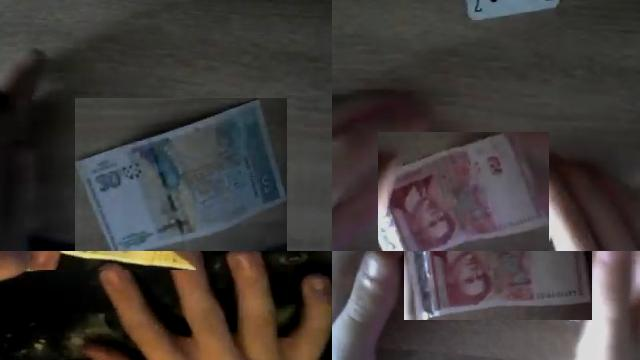20leva: (75, 98, 287, 251)
5leva: (378, 132, 549, 251), (404, 251, 592, 320)
